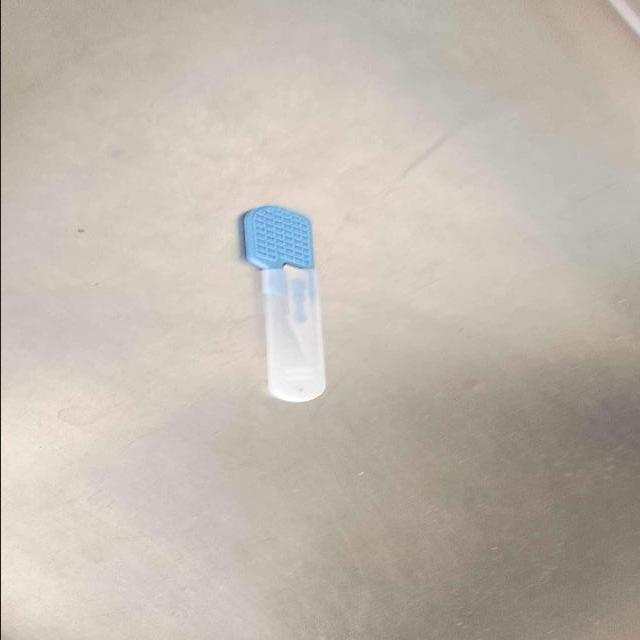General: (239, 205, 315, 273)
Sharps: (240, 205, 328, 404)
